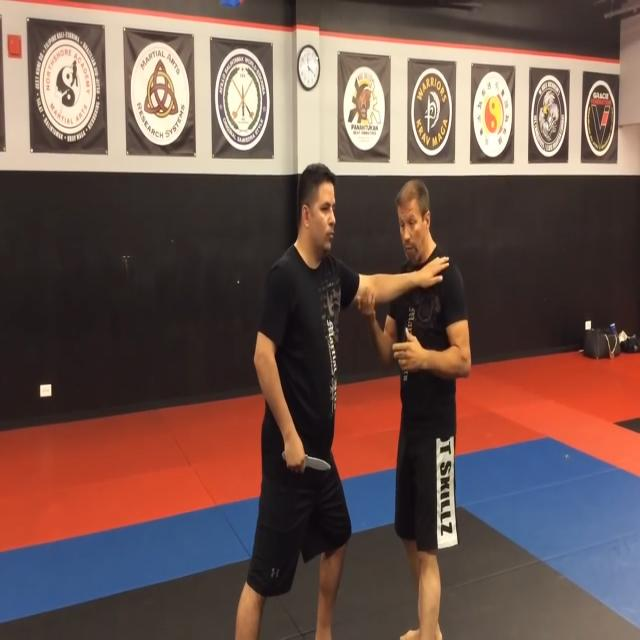knife: (302, 452, 334, 480)
